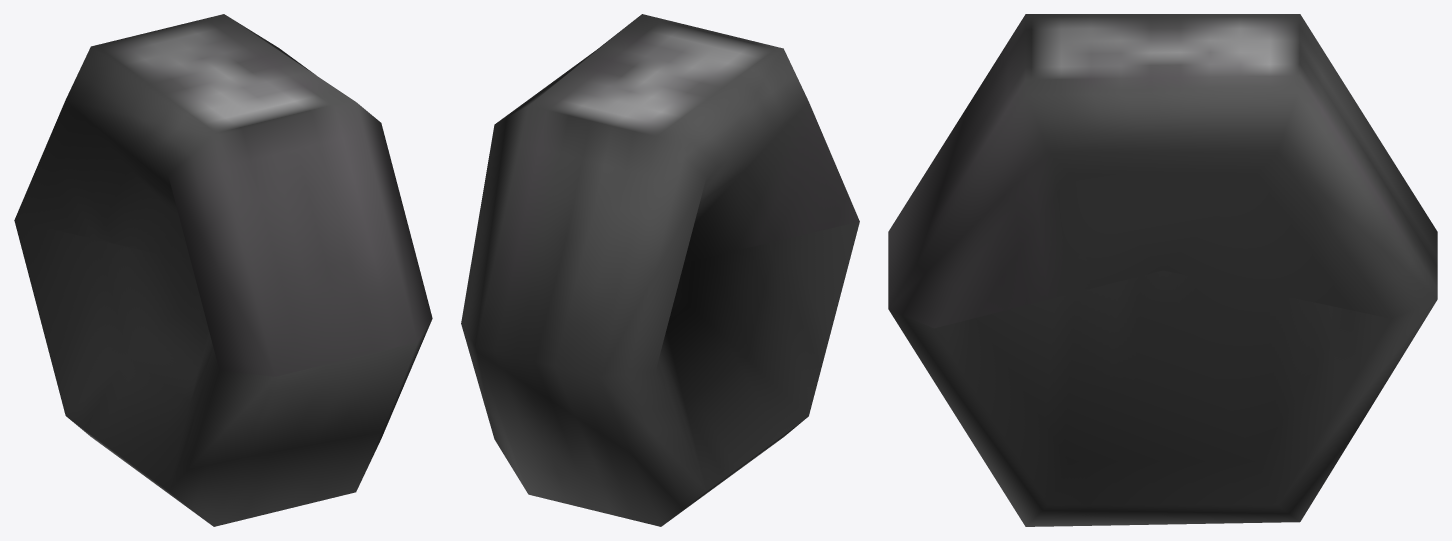
Rendered from batch_0041.obj.
The picture shows the model from 3 angles, left to right: view 1: azimuth 30°, elevation 25°; view 2: azimuth 150°, elevation 25°; view 3: azimuth 270°, elevation 25°; orthographic projection. The views are drawn at different scales.
Parts seen in each view (by area): view 1: batch_0041; view 2: batch_0041; view 3: batch_0041.
Part boxes in pixels (x1,y1,x2,y2): batch_0041: (14,14,432,526); batch_0041: (461,14,859,526); batch_0041: (888,14,1437,526).
Size of the model in its own units: 6 by 10.5 by 12.
Materials: 1 (1 with a texture image).
